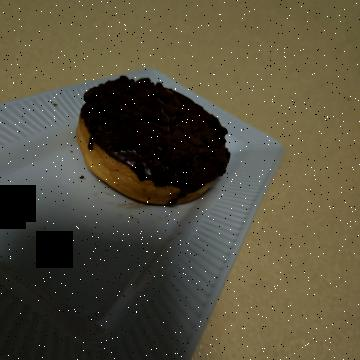doughnut: (63, 112, 217, 288)
